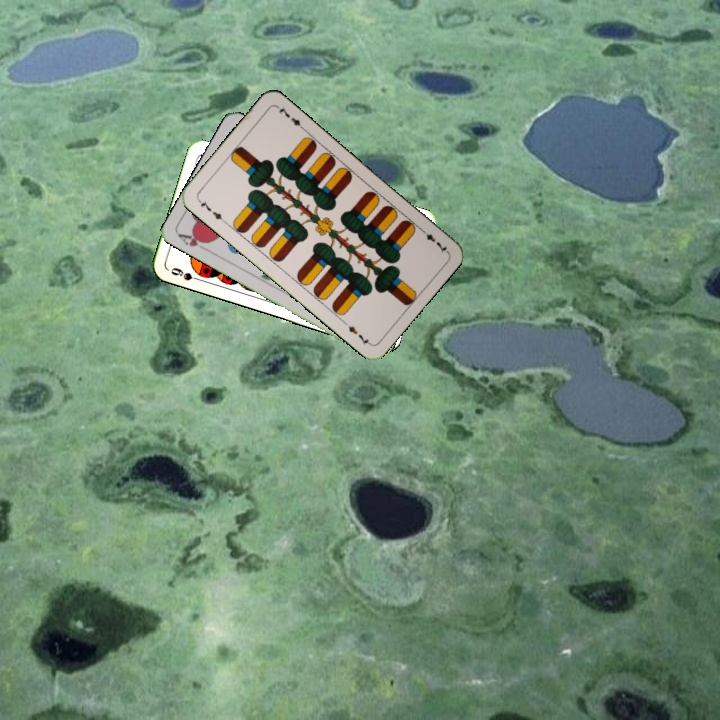E7: (416, 224, 450, 255), (194, 195, 228, 225)
HA: (174, 229, 212, 254)
S9: (166, 264, 205, 284)
